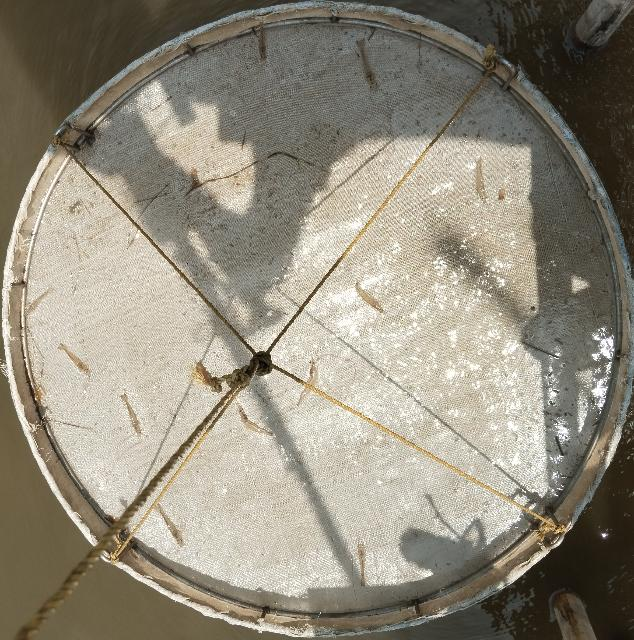shrimp: (237, 403, 274, 436), (156, 504, 184, 547), (357, 39, 378, 91), (58, 343, 90, 375), (297, 358, 318, 406), (120, 392, 142, 436), (356, 281, 385, 313), (25, 287, 53, 320), (476, 156, 487, 202), (357, 539, 367, 587), (256, 22, 267, 61)
